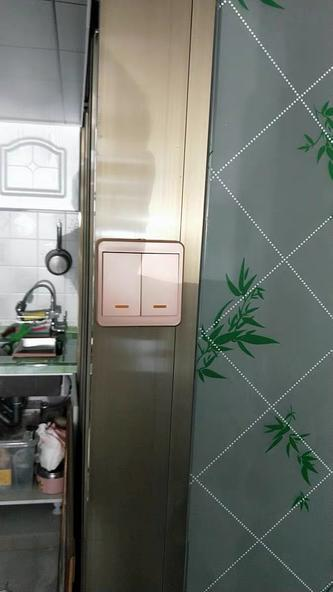switch: (108, 254, 142, 320), (150, 256, 178, 320)
